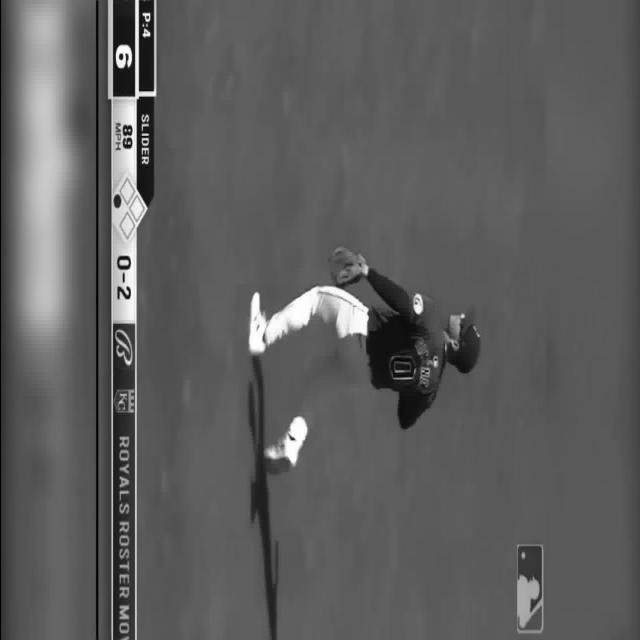baseball_glove: (329, 247, 365, 287)
shoe: (262, 436, 298, 476), (248, 291, 266, 356)
